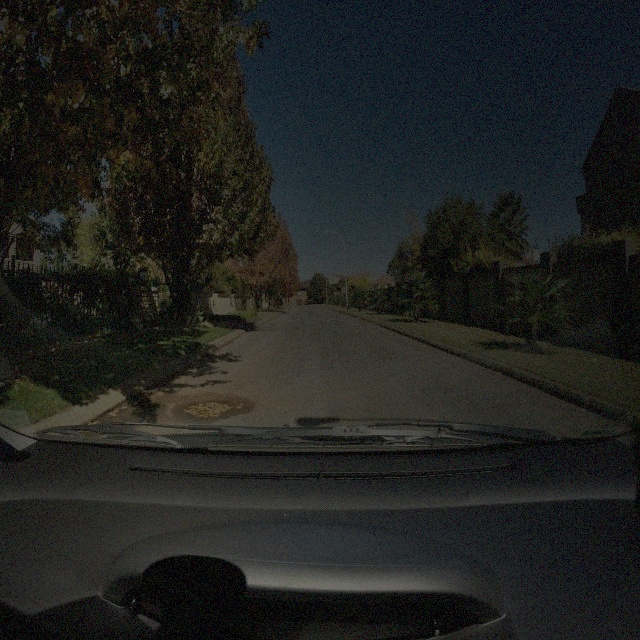pothole: (182, 396, 234, 420)
